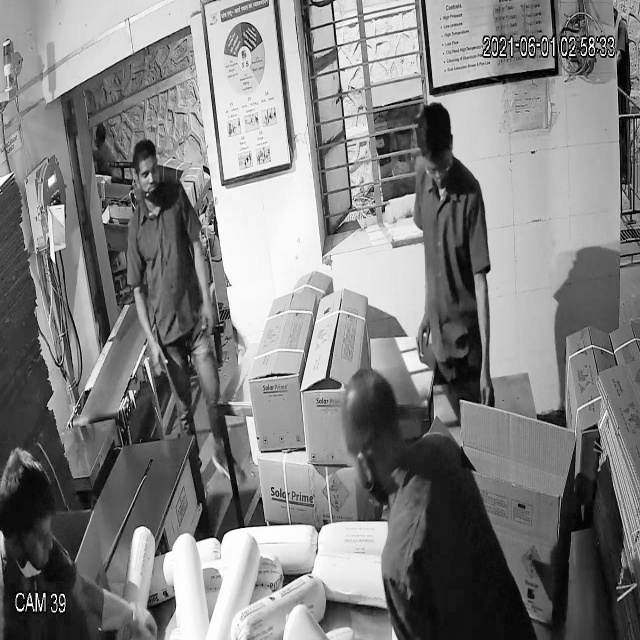Gafas: (414, 143, 459, 185)
